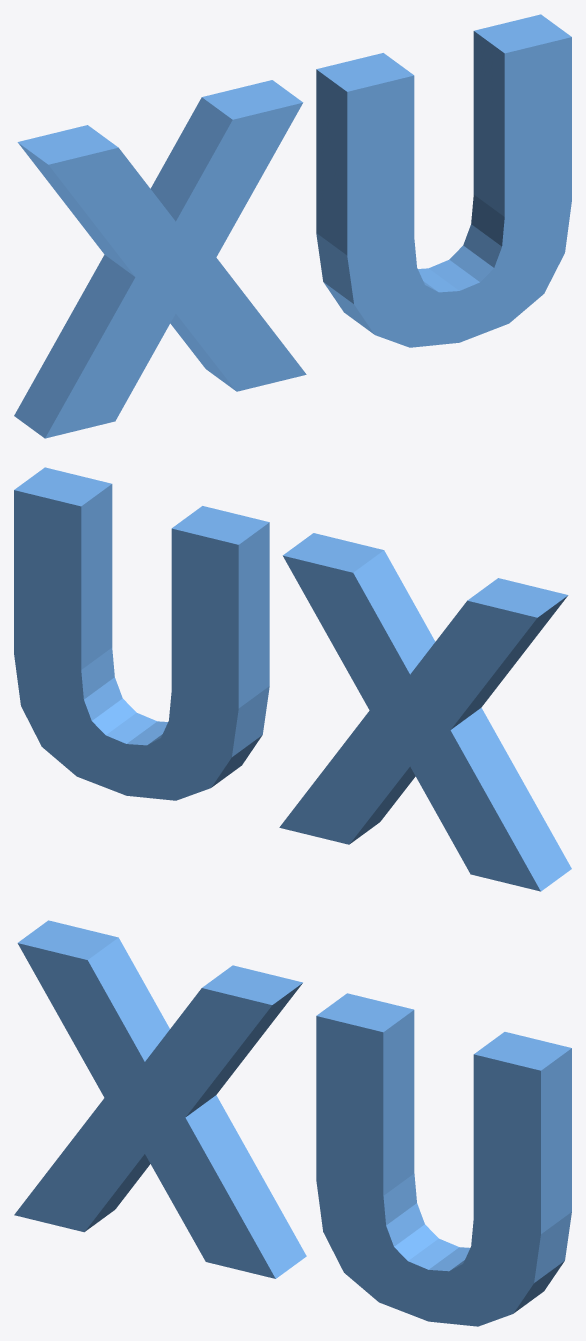
Rendered from suku_besar_xu.glb.
The picture shows the model from 3 angles, top to bottom: view 1: azimuth 30°, elevation 25°; view 2: azimuth 150°, elevation 25°; view 3: azimuth 330°, elevation 25°; orthographic projection.
Visible parts, largest first — view 1: geometry_0; view 2: geometry_0; view 3: geometry_0.
Part boxes in pixels (bbox=[...]): geometry_0: bbox=[14, 14, 571, 438]; geometry_0: bbox=[14, 467, 571, 891]; geometry_0: bbox=[14, 920, 571, 1326].
Bounding box in the file's own units: 14.73 × 7.43 × 1.5.
